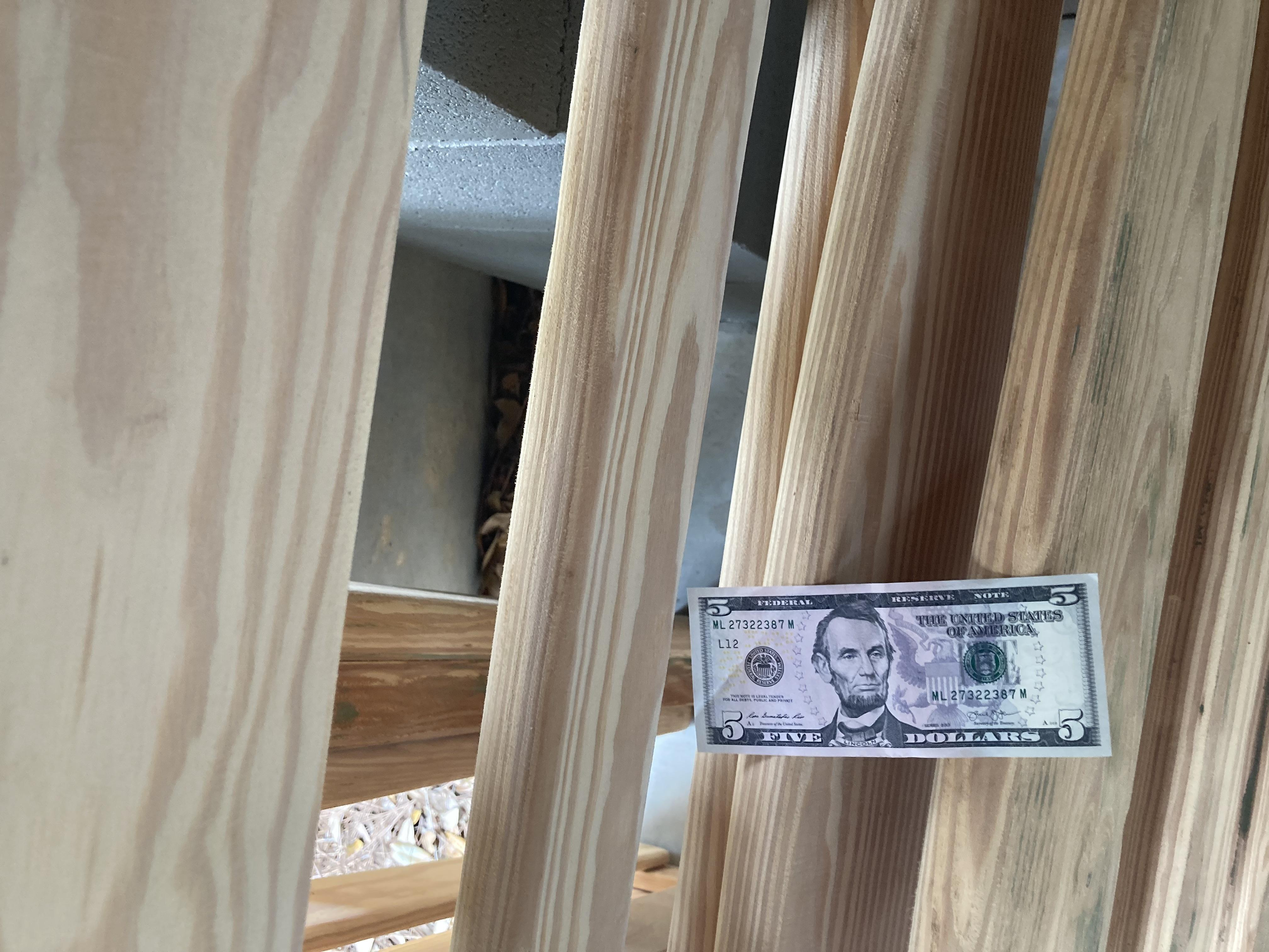five-front: (257, 513, 506, 835)
